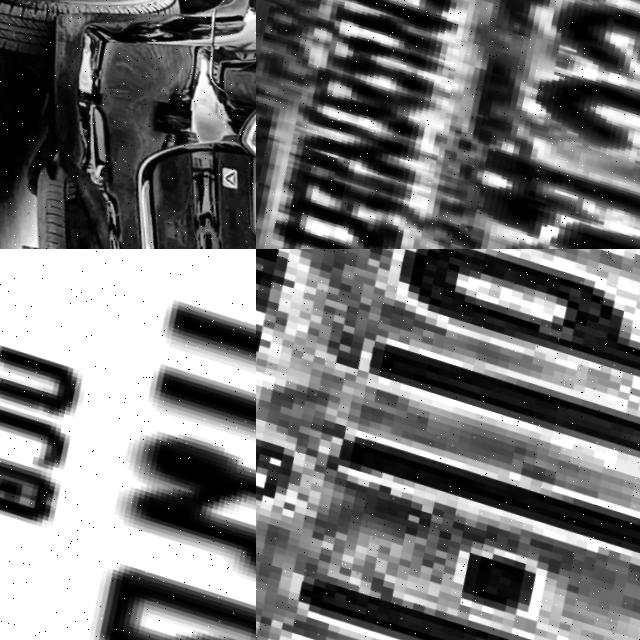license-plate: (256, 249, 640, 640), (0, 249, 256, 640), (256, 0, 640, 249)
